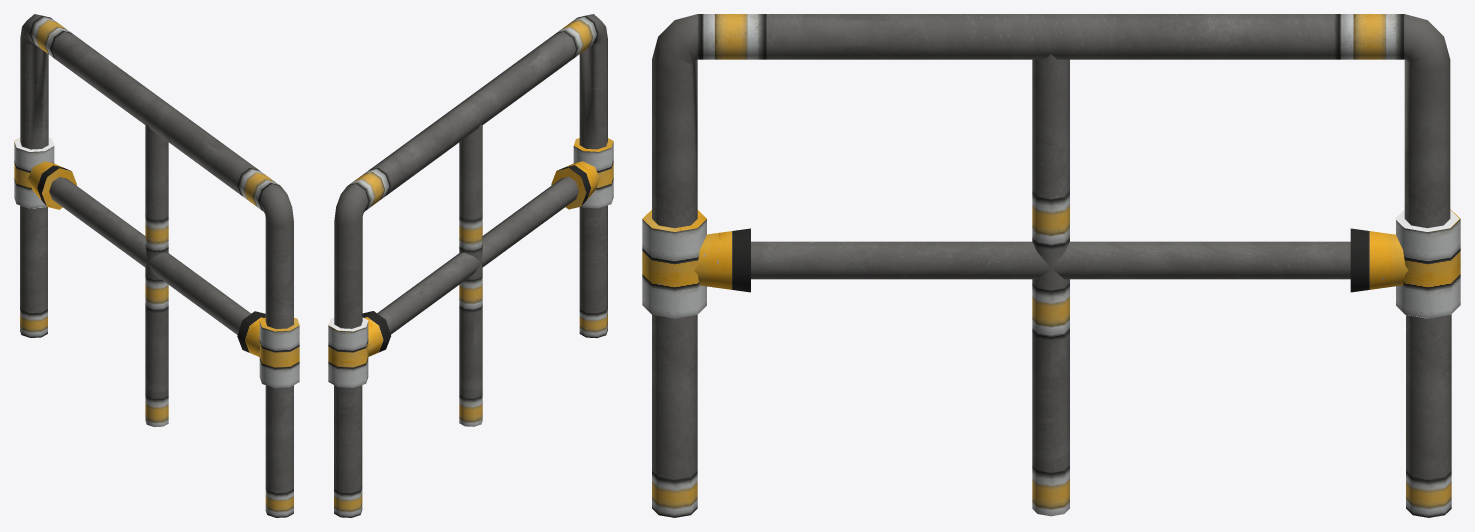
Rendered from tall_raiing.fbx.
The picture shows the model from 3 angles, left to right: view 1: azimuth 30°, elevation 25°; view 2: azimuth 150°, elevation 25°; view 3: azimuth 270°, elevation 25°; orthographic projection. The views are drawn at different scales.
Parts seen in each view (by area): view 1: polySurface1; view 2: polySurface1; view 3: polySurface1.
Part boxes in pixels (x1,y1,x2,y2): polySurface1: [14, 14, 299, 517]; polySurface1: [328, 14, 613, 517]; polySurface1: [642, 14, 1460, 517].
Size of the model in its own units: 0.2275 by 1.97 by 2.95.
